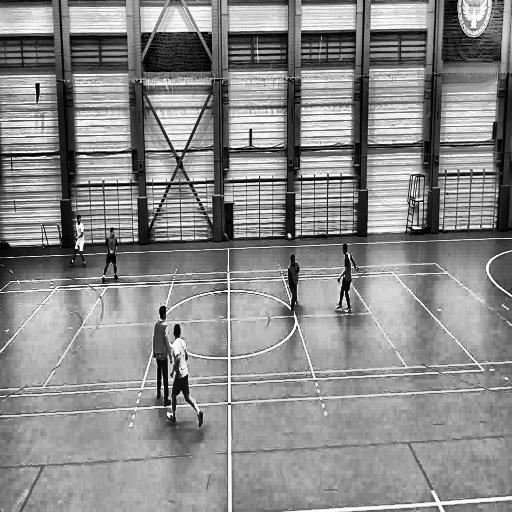ball: (285, 230, 295, 244)
player: (168, 324, 204, 431), (335, 241, 359, 314), (152, 304, 167, 407), (68, 214, 88, 270), (102, 226, 120, 284), (287, 252, 301, 318)
